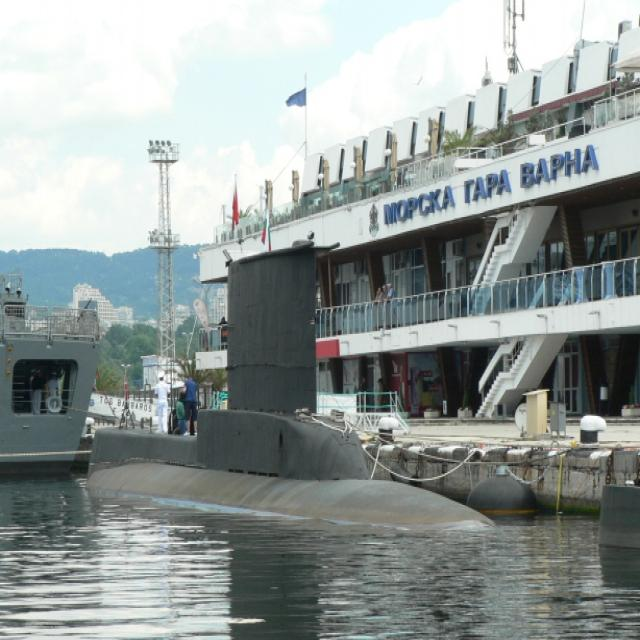submarine: (73, 248, 509, 536)
